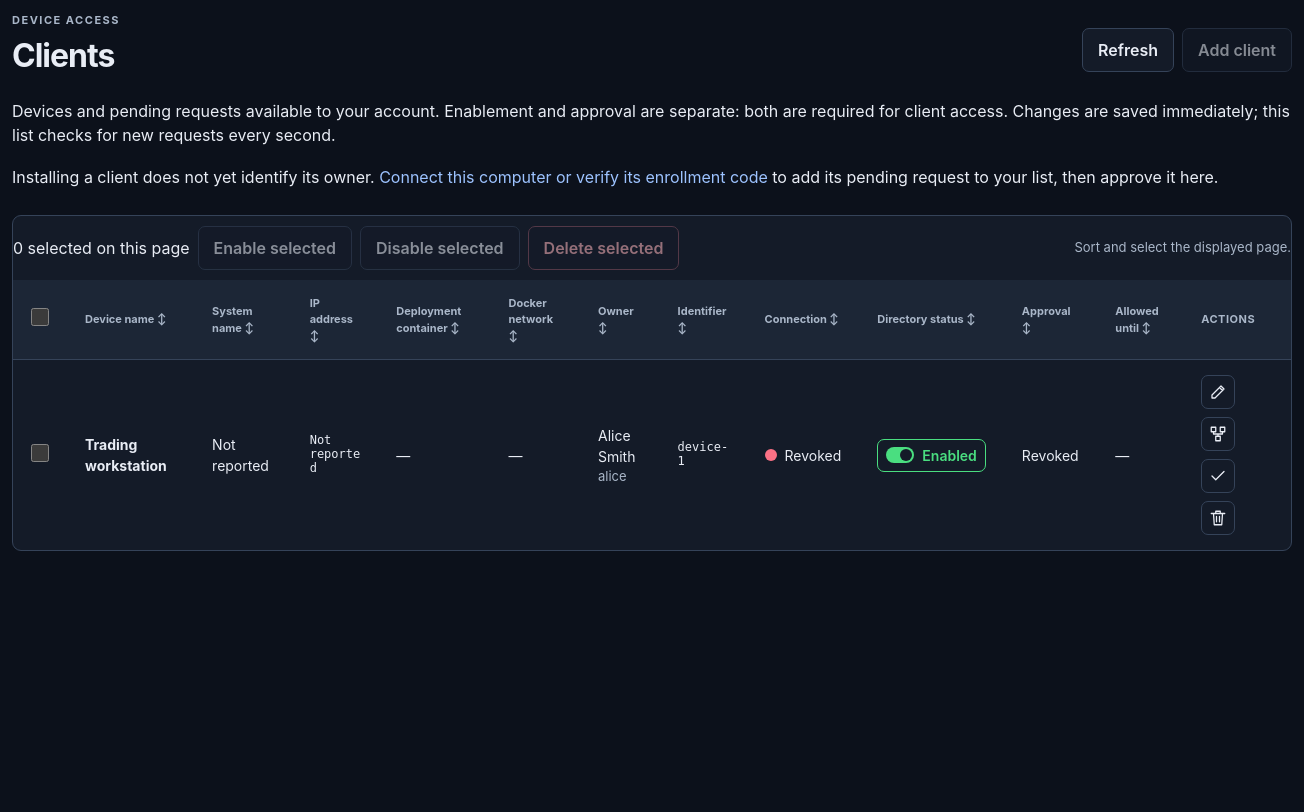
Scenario: Device management › reopens a revoked device for fresh approval without approving it
This screenshot has width=1304, height=812.
What coordinates should you click on to do the following:
click the button named "Request approval again device-1"
I would click on:
 (1218, 476)
Its box is [1201, 459, 1235, 493].
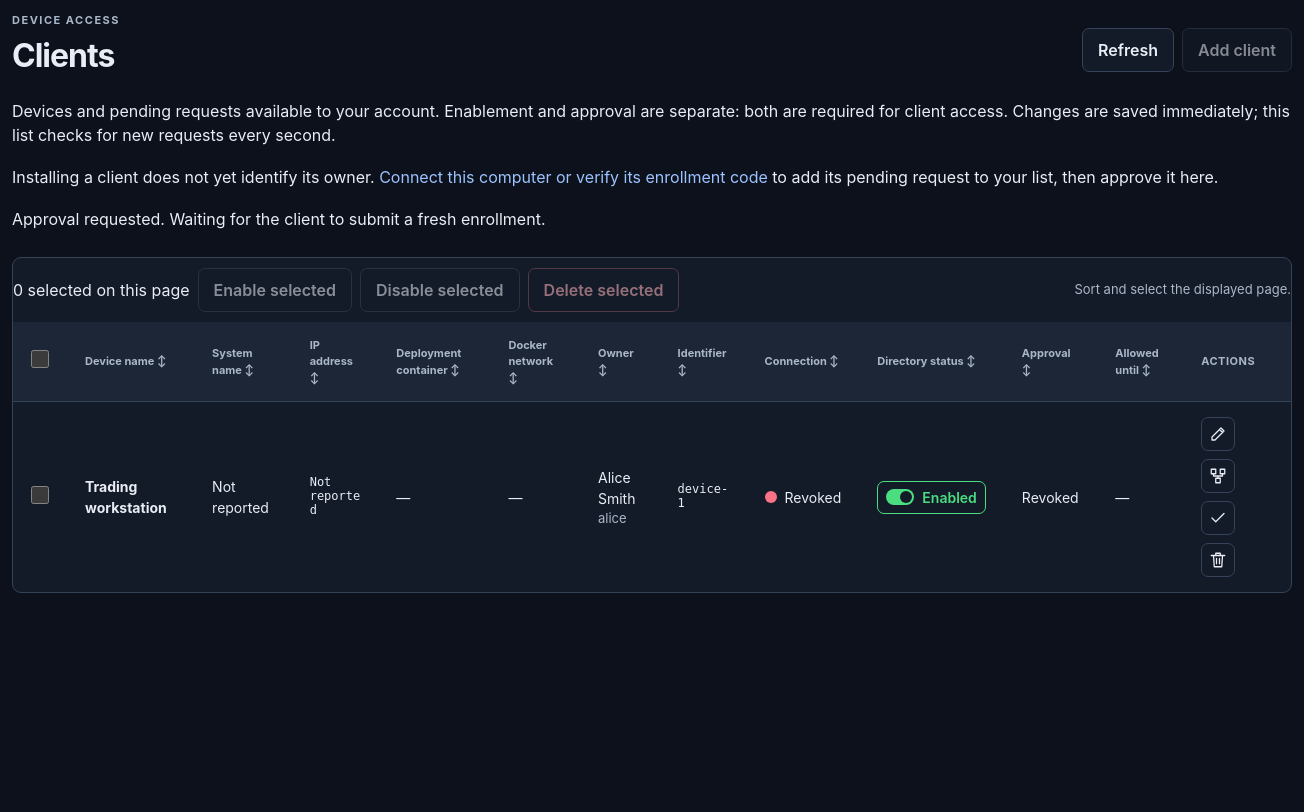
Expected: the text "Approval requested. Waiting for the client to submit a fresh enrollment." is shown, [12, 209, 546, 229]
